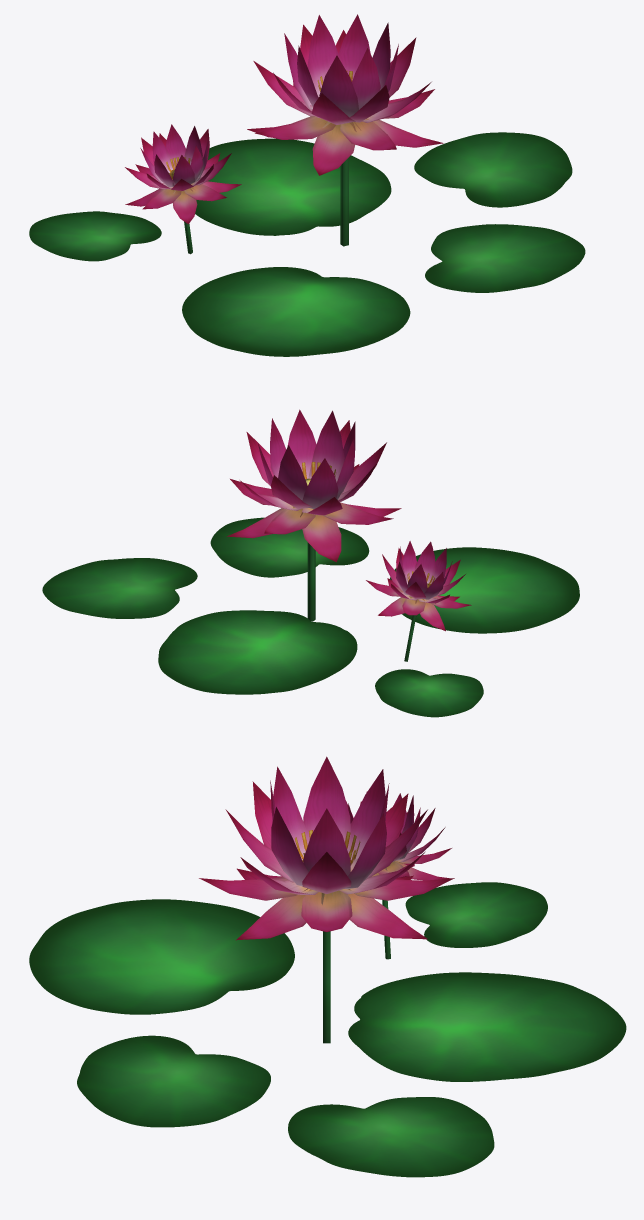
3 views of the same model, one above another, from view 1: azimuth 30°, elevation 25°; view 2: azimuth 150°, elevation 25°; view 3: azimuth 270°, elevation 25° (orthographic). The views are drawn at different scales.
Visible parts, largest first — view 1: aeceb2d4; view 2: aeceb2d4; view 3: aeceb2d4.
Boxes of the visible parts, x1=… form: aeceb2d4: x1=29, y1=14, x2=585, y2=356; aeceb2d4: x1=42, y1=409, x2=579, y2=717; aeceb2d4: x1=29, y1=756, x2=626, y2=1177.
Bounding box in the file's own units: 0.4683 × 0.1674 × 0.3563.
Materials: 1 (1 with a texture image).
